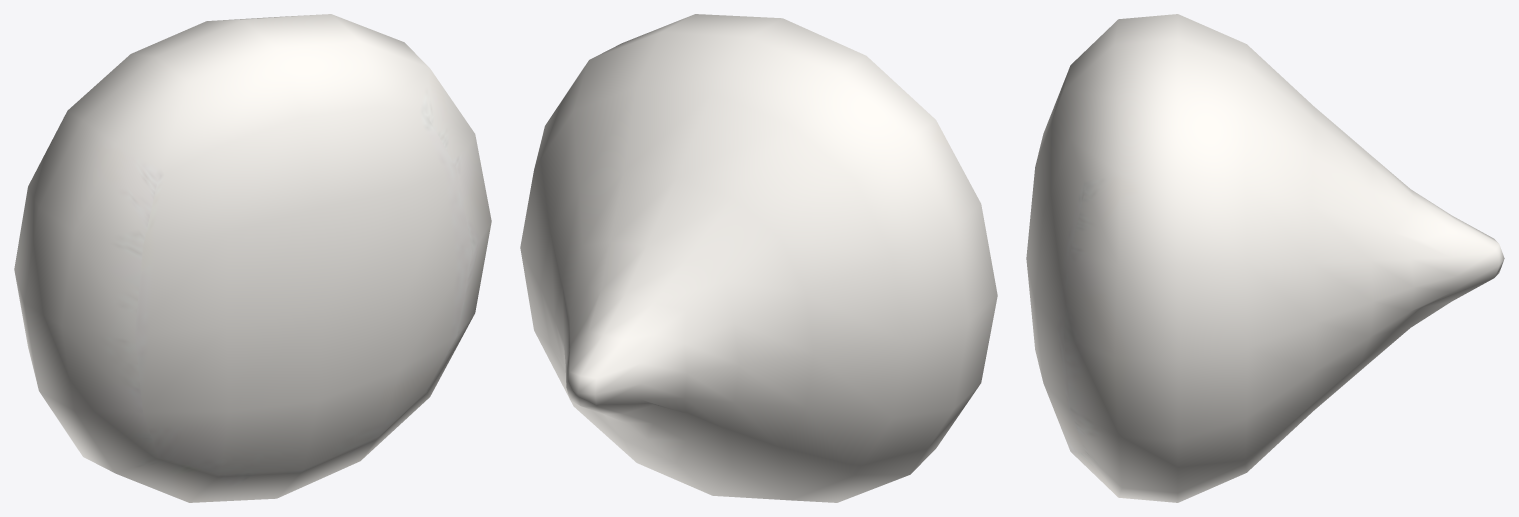
File: piping-round-dollop.glb
3 renders of one model, left to right at view 1: azimuth 30°, elevation 25°; view 2: azimuth 150°, elevation 25°; view 3: azimuth 270°, elevation 25°, orthographic. The views are drawn at different scales.
Parts seen in each view (by area): view 1: set1_cream1; view 2: set1_cream1; view 3: set1_cream1.
Boxes of the visible parts, x1=… form: set1_cream1: x1=14, y1=14, x2=491, y2=502; set1_cream1: x1=520, y1=14, x2=997, y2=502; set1_cream1: x1=1026, y1=14, x2=1504, y2=502.
Bounding box in the file's own units: 0.0174 × 0.0174 × 0.0173.
Materials: 1 (1 with a texture image).
